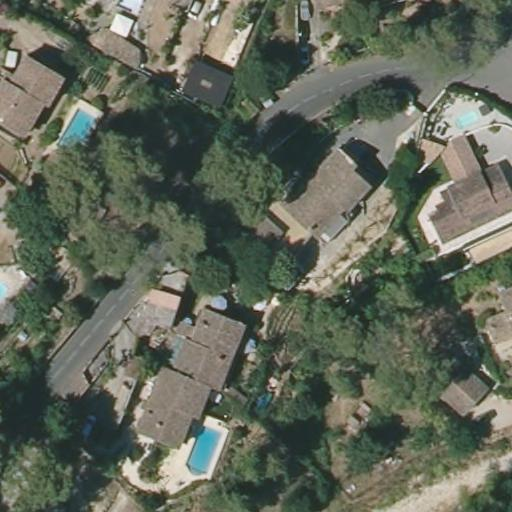pool: (182, 422, 222, 478), (55, 107, 96, 161), (455, 107, 484, 132), (0, 269, 14, 308)
